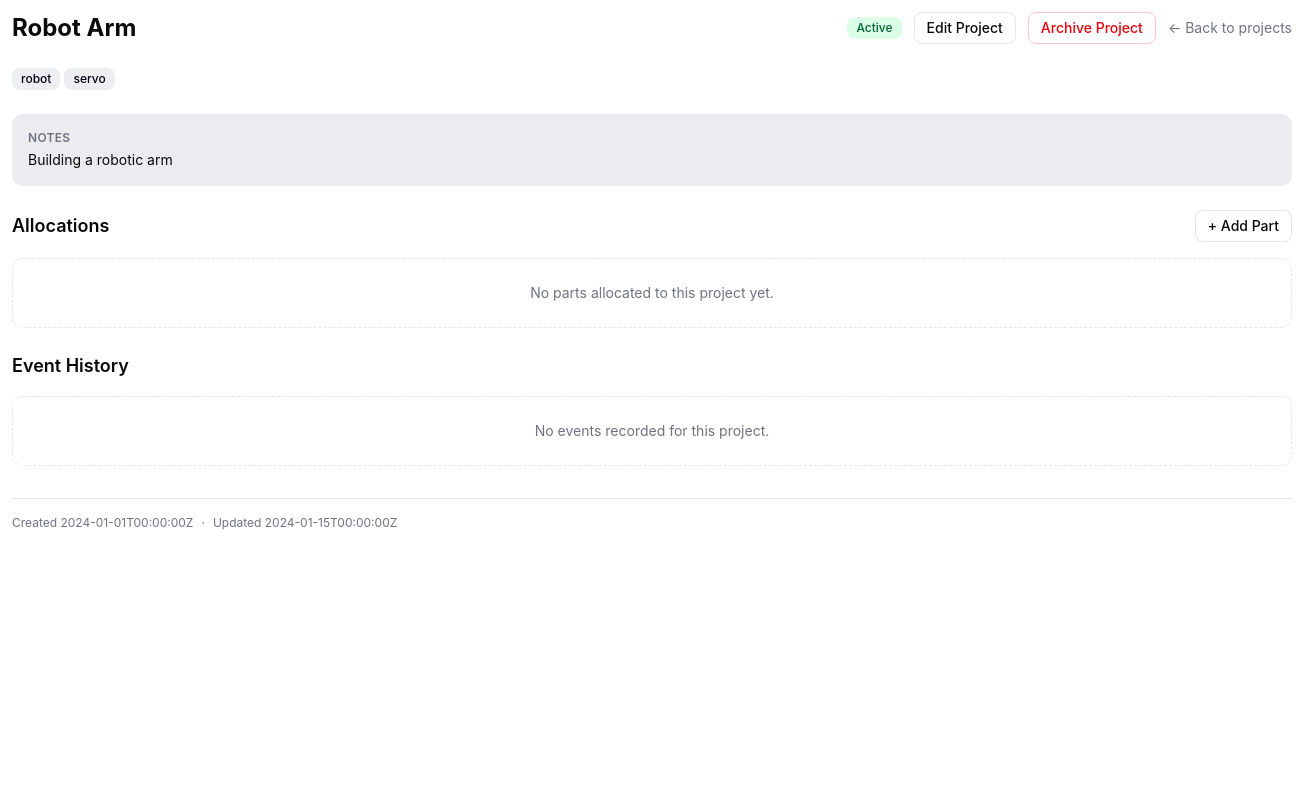
Test case: ProjectDetailClient — archive behaviour › shows generic archive error when response has no error field
Expected: the heading "Robot Arm" is shown, [12,12,136,44]
Click the button "Archive Project" at (1092, 28), box [1028,12,1156,44]
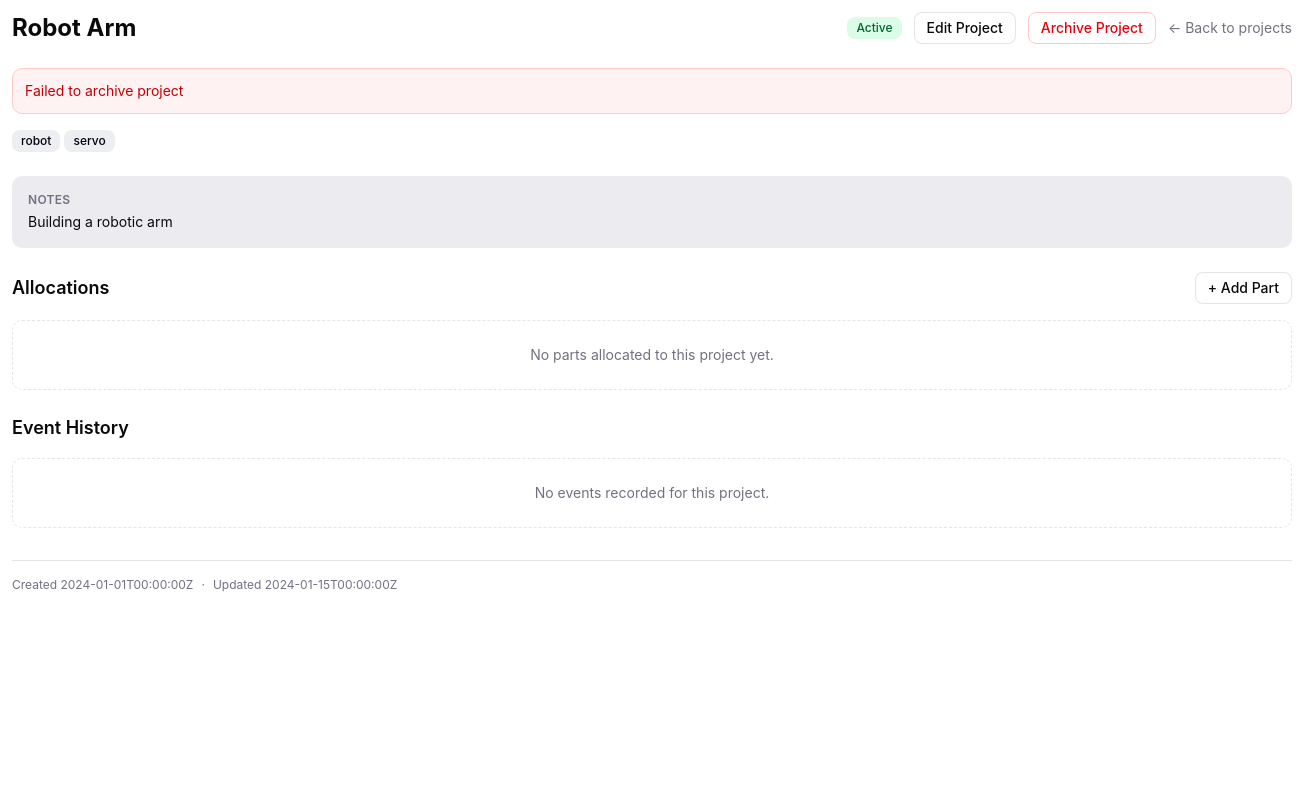
Now the text "Failed to archive project" is shown, box [12,68,1292,114]
